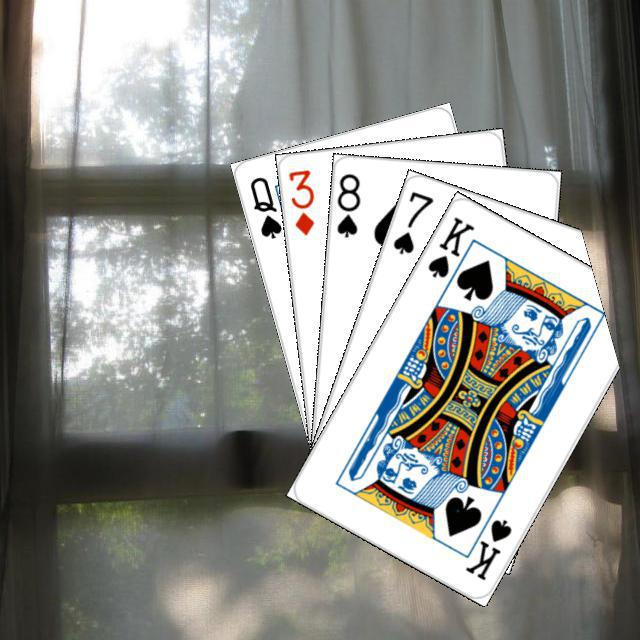3d: (284, 164, 316, 237)
7s: (388, 186, 435, 257)
8s: (332, 169, 362, 239)
Ks: (459, 502, 514, 582), (423, 212, 477, 280)
Qs: (245, 172, 284, 240)
